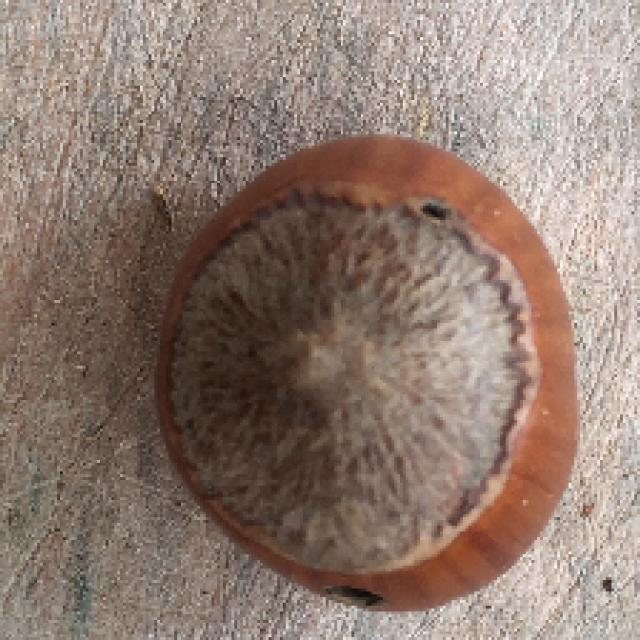damagedHazelnut: (129, 128, 590, 630)
